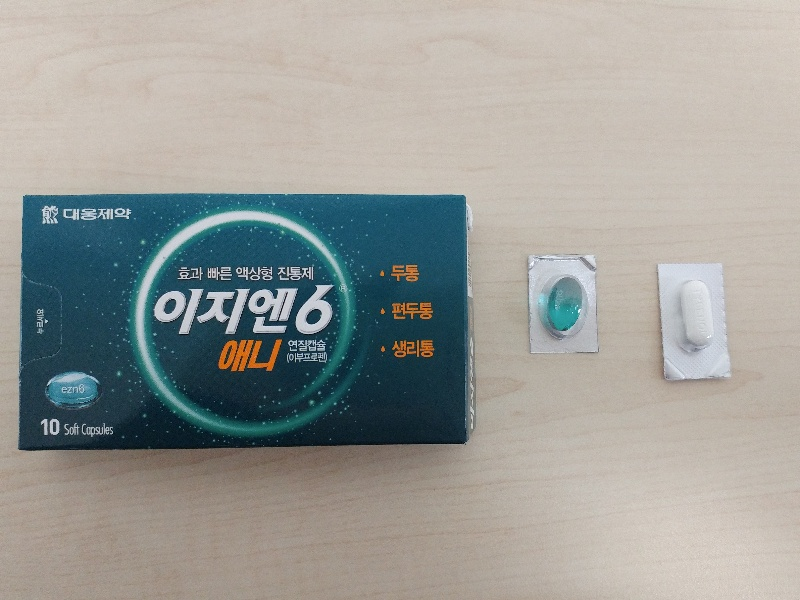ezn: (22, 194, 467, 448)
pill_ezn: (527, 255, 596, 352)
pill_tylenol: (659, 263, 731, 379)
